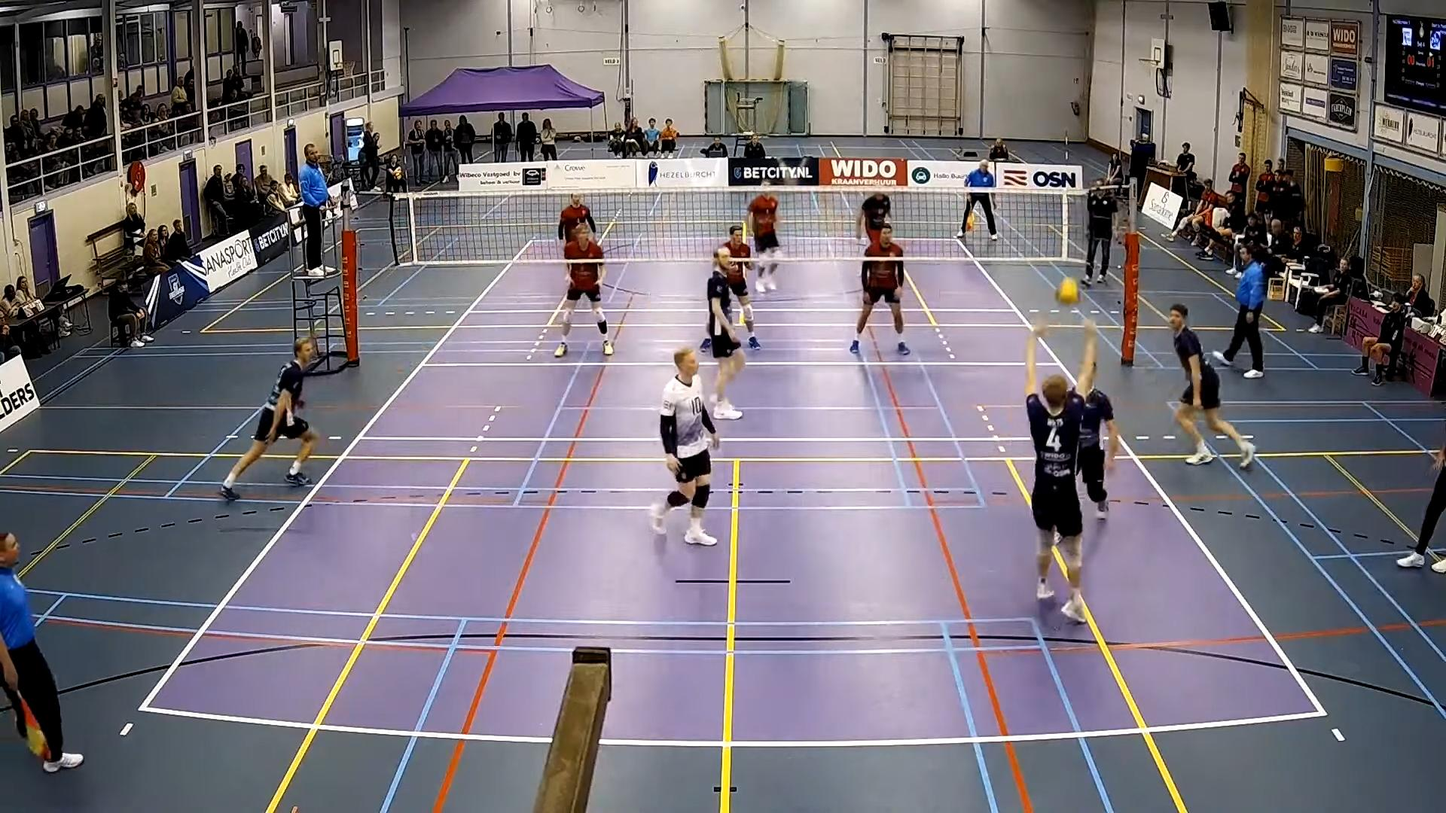Player: (220, 337, 318, 501), (1169, 303, 1255, 467), (651, 349, 718, 545), (850, 224, 910, 355), (554, 224, 612, 357), (706, 248, 744, 419), (1079, 388, 1119, 519), (721, 225, 760, 349), (747, 184, 779, 293), (856, 190, 890, 243), (558, 193, 596, 240)
Set: (1004, 311, 1113, 630)
ball: (1051, 282, 1081, 307)
